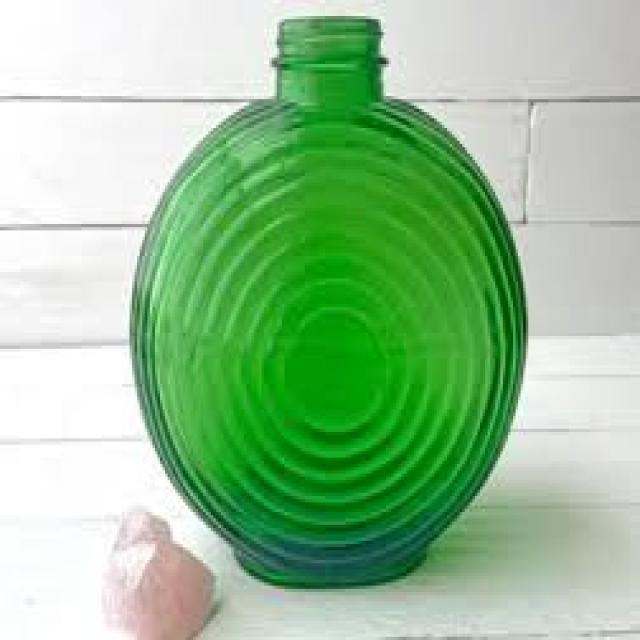glass: (127, 13, 526, 586)
